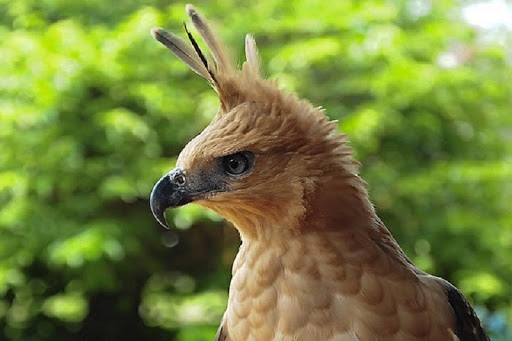Pengoyak Daging: (138, 169, 190, 234)
